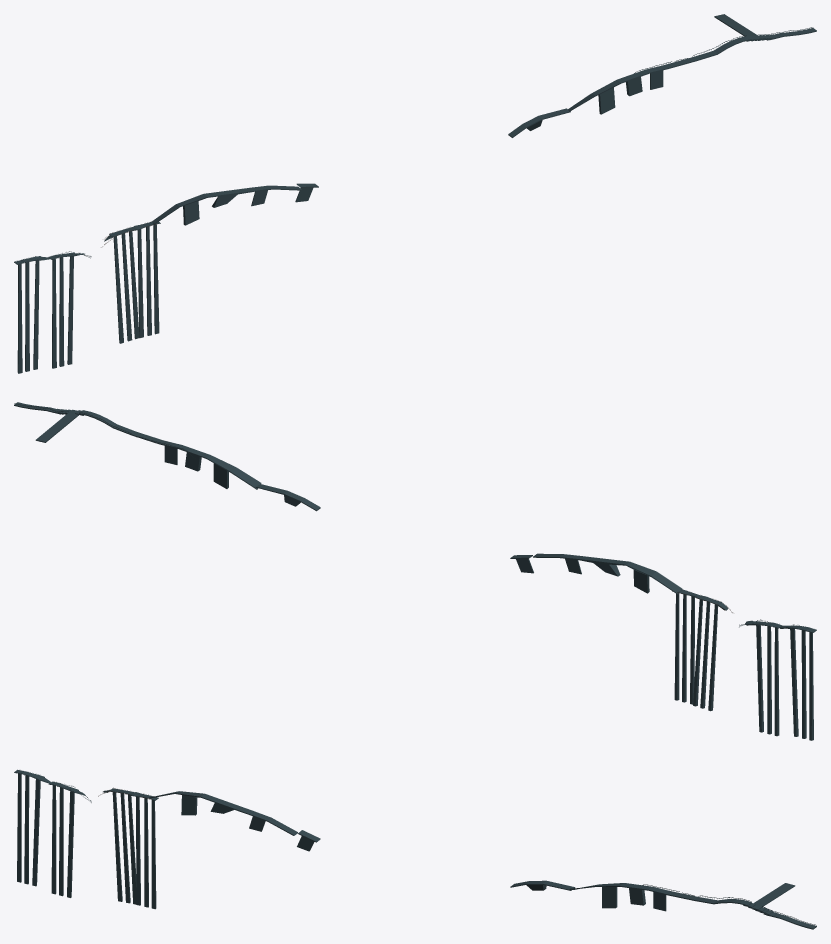
The model's file is bridge.fbx.
The picture shows the model from 3 angles, top to bottom: view 1: azimuth 30°, elevation 25°; view 2: azimuth 150°, elevation 25°; view 3: azimuth 330°, elevation 25°; orthographic projection.
Parts seen in each view (by area): view 1: BRIDGE; view 2: BRIDGE; view 3: BRIDGE.
Boxes of the visible parts, box(x1,y1,x2,y2) form: BRIDGE: box(14, 14, 816, 373); BRIDGE: box(14, 402, 816, 740); BRIDGE: box(14, 769, 816, 929).
Bounding box in the file's own units: 166757 × 31644 × 14965.
